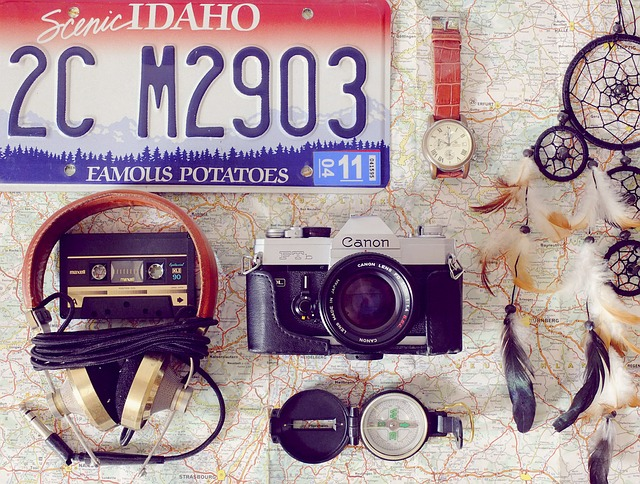headphones: (23, 189, 217, 432)
